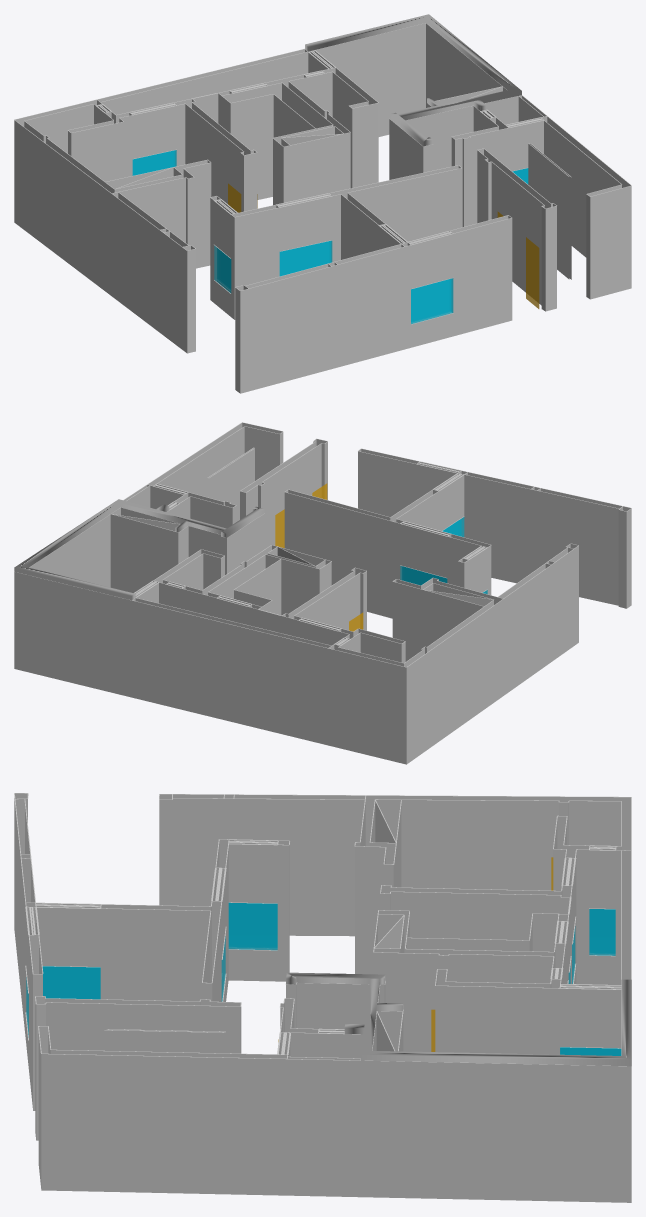
Rendered from f07286b7-90b6-42fc-9818-5d63deef48fa.glb.
3 renders of one model, top to bottom at view 1: azimuth 30°, elevation 25°; view 2: azimuth 150°, elevation 25°; view 3: azimuth 270°, elevation 25°, orthographic. The views are drawn at different scales.
Parts seen in each view (by area): view 1: walls, windows, roof, doors; view 2: walls, roof, windows, doors; view 3: walls, windows, roof.
Boxes of the visible parts, x1=… form: walls: x1=14, y1=23, x2=631, y2=393; windows: x1=132, y1=150, x2=528, y2=324; roof: x1=305, y1=14, x2=521, y2=146; doors: x1=228, y1=183, x2=539, y2=308; walls: x1=14, y1=422, x2=631, y2=764; roof: x1=14, y1=499, x2=264, y2=600; windows: x1=400, y1=517, x2=487, y2=594; doors: x1=275, y1=483, x2=363, y2=631; walls: x1=14, y1=793, x2=631, y2=1202; windows: x1=26, y1=902, x2=621, y2=1055; roof: x1=286, y1=972, x2=631, y2=1066.
Size of the model in its own units: 15.01 by 3.65 by 14.34.
